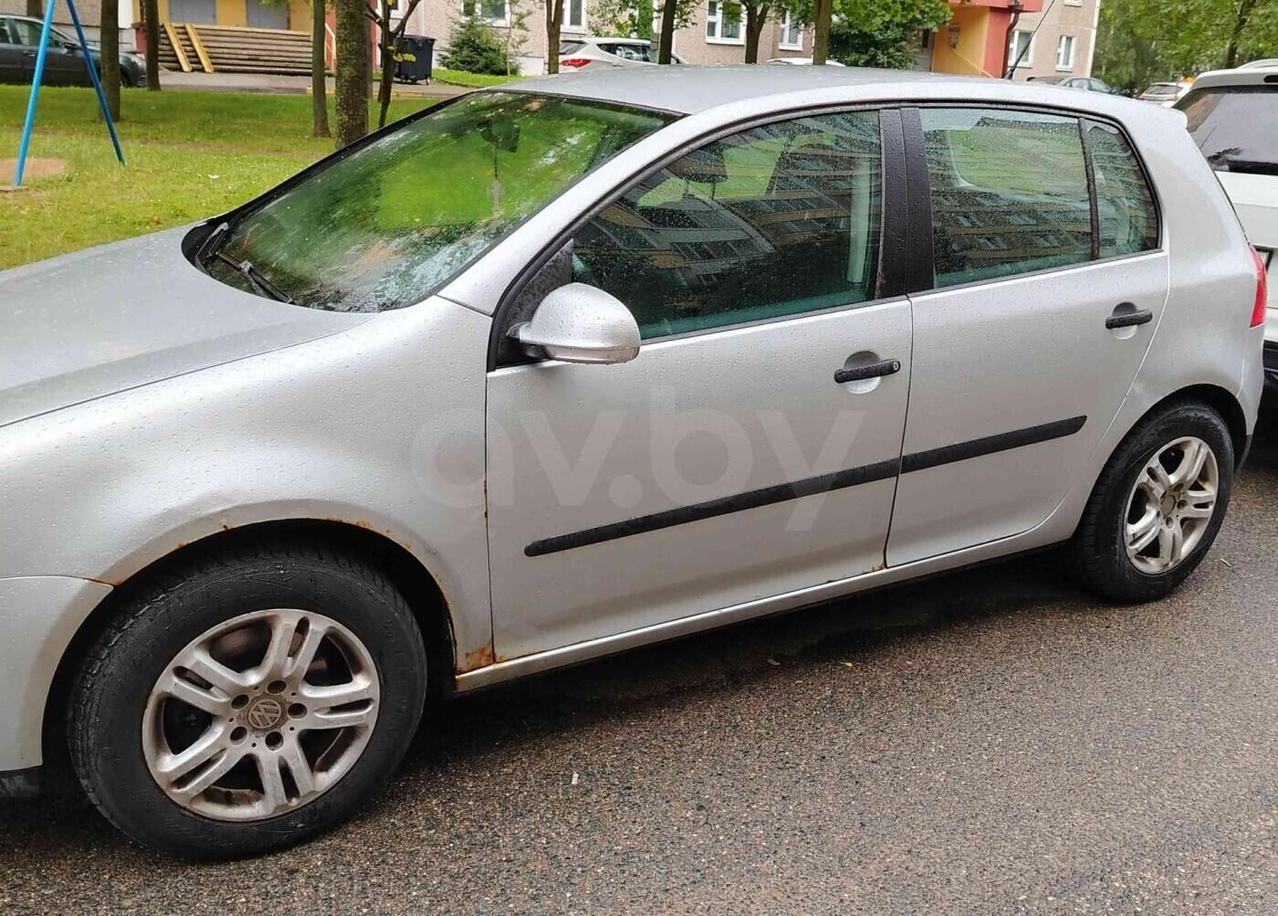Golf_2003-2009: (0, 61, 1270, 847)
